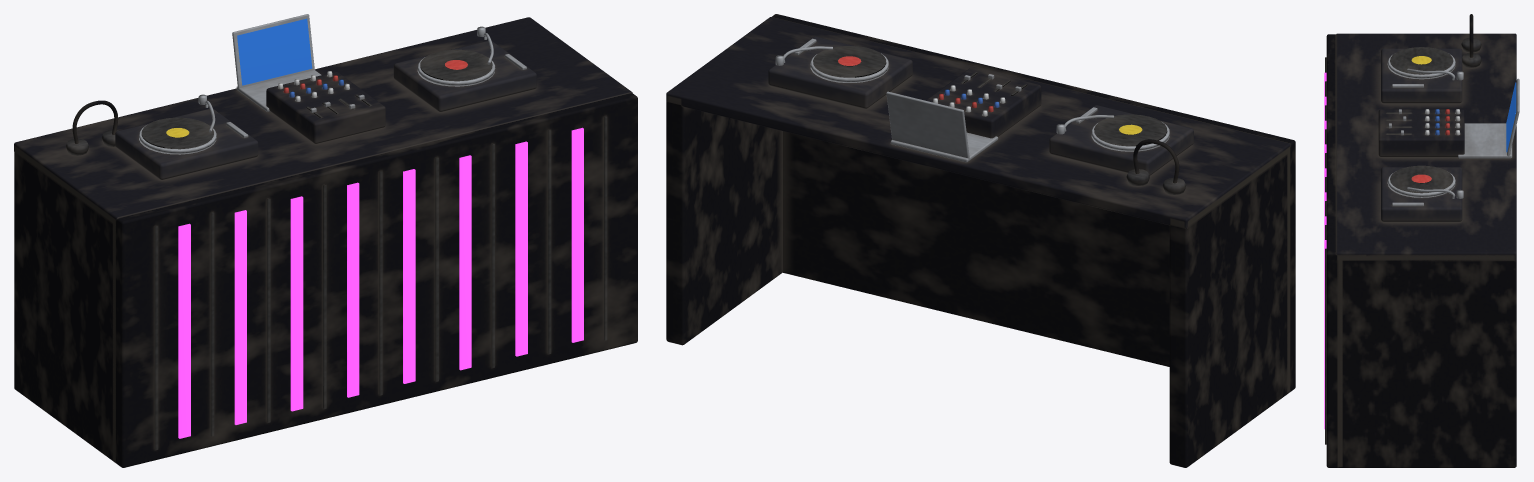
The model's file is klub_dj.glb.
3 views of the same model, side by side, from view 1: azimuth 30°, elevation 25°; view 2: azimuth 150°, elevation 25°; view 3: azimuth 270°, elevation 25° (orthographic). The views are drawn at different scales.
Parts seen in each view (by area): view 1: Stanowisko, SwiatloLed, Ekran; view 2: Stanowisko; view 3: Stanowisko, SwiatloLed, Ekran.
Boxes of the visible parts, x1=… form: Stanowisko: x1=14, y1=14, x2=637, y2=467; SwiatloLed: x1=178, y1=127, x2=583, y2=438; Ekran: x1=237, y1=18, x2=312, y2=85; Stanowisko: x1=666, y1=14, x2=1295, y2=467; Stanowisko: x1=1325, y1=14, x2=1519, y2=467; SwiatloLed: x1=1324, y1=72, x2=1326, y2=429; Ekran: x1=1506, y1=82, x2=1516, y2=152.
Bounding box in the file's own units: 2.3 × 1.29 × 0.8627.
Materials: 3 (1 with a texture image).
